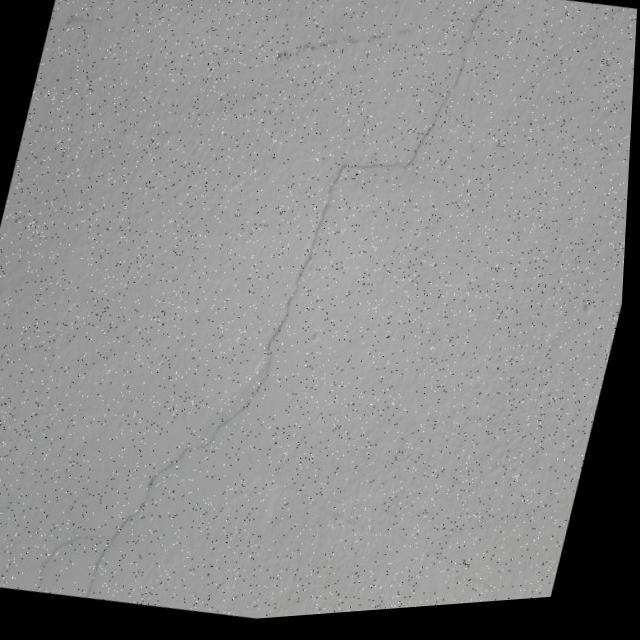Crack: (11, 0, 519, 638)
